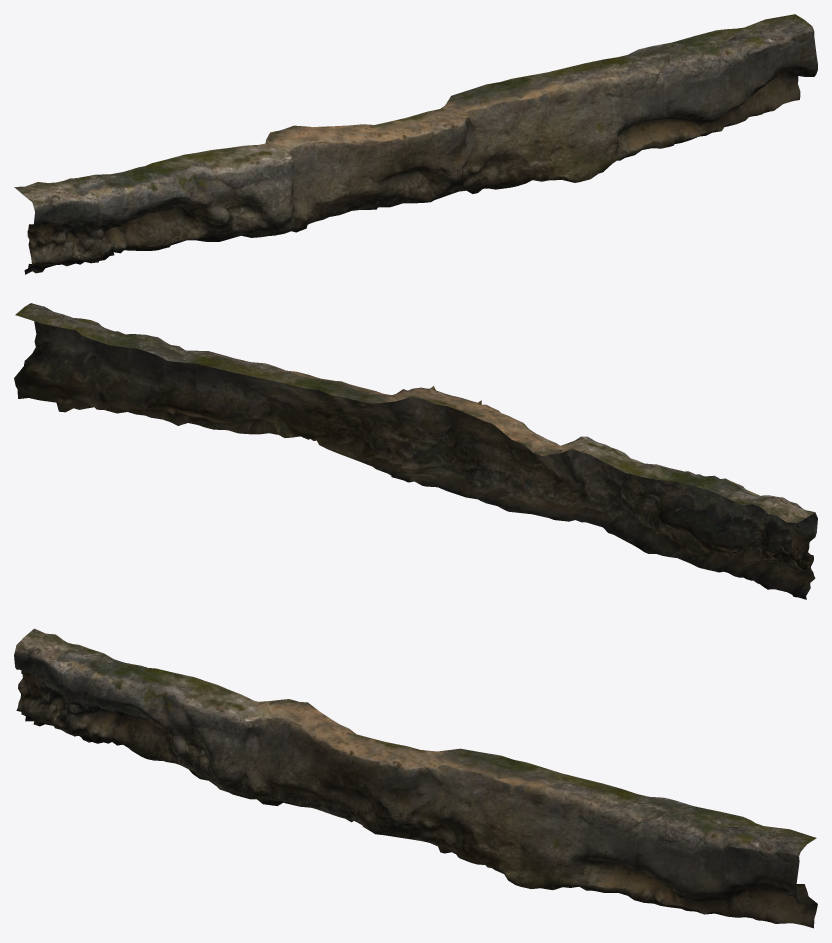
The model's file is ph_cliff_01.glb.
3 views of the same model, one above another, from view 1: azimuth 30°, elevation 25°; view 2: azimuth 150°, elevation 25°; view 3: azimuth 330°, elevation 25° (orthographic). The views are drawn at different scales.
Parts seen in each view (by area): view 1: coastal_cliff_01; view 2: coastal_cliff_01; view 3: coastal_cliff_01.
Boxes of the visible parts, <box> form: coastal_cliff_01: <box>14,14,817,274</box>; coastal_cliff_01: <box>14,303,817,599</box>; coastal_cliff_01: <box>14,628,817,928</box>.
Bounding box in the file's own units: 91.92 × 10.26 × 10.96.
1 material, 1 textured.
